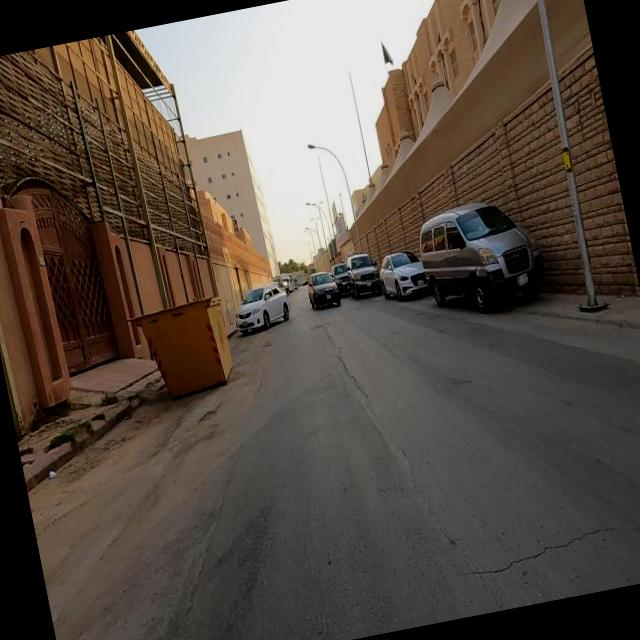debris: (51, 197, 325, 527)
